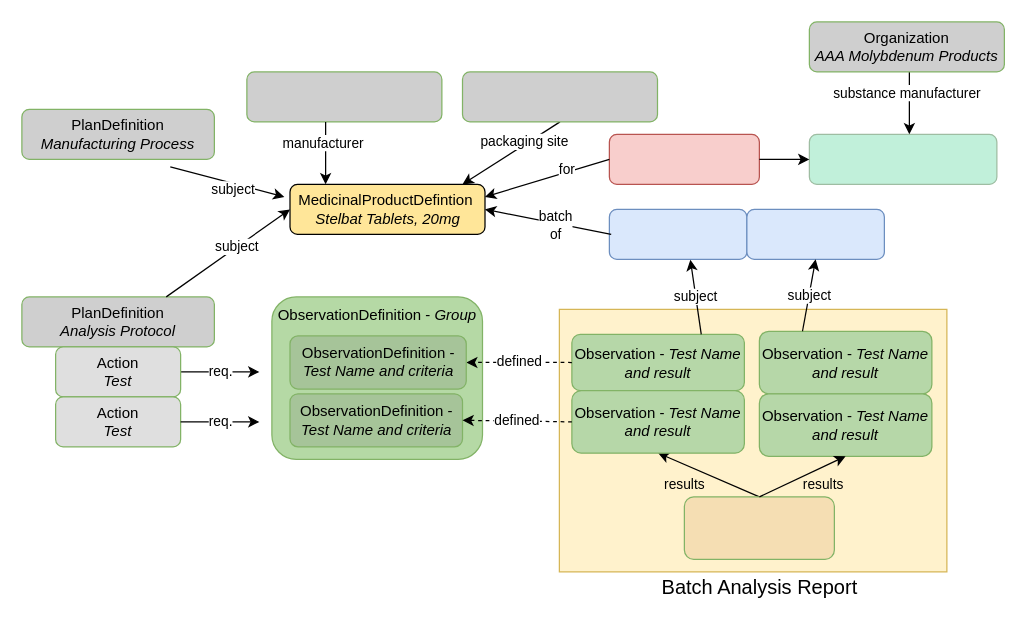
This 1026x631 diagram has some shape labels left out. The shapes that lost their labels are listed below. From the top down, each one's centre as x and y in pixels, then its label:
the point at 344,96: Organization AAA Pharmaceutical, Inc.
the point at 559,96: Organization My Site
the point at 683,158: Ingredient
the point at 902,158: SubstanceDefinition Stelbatolol
the point at 677,233: Medication Batch 1
the point at 815,233: Medication Batch 2
the point at 758,527: DiagnosticReport List of values and conclusion
